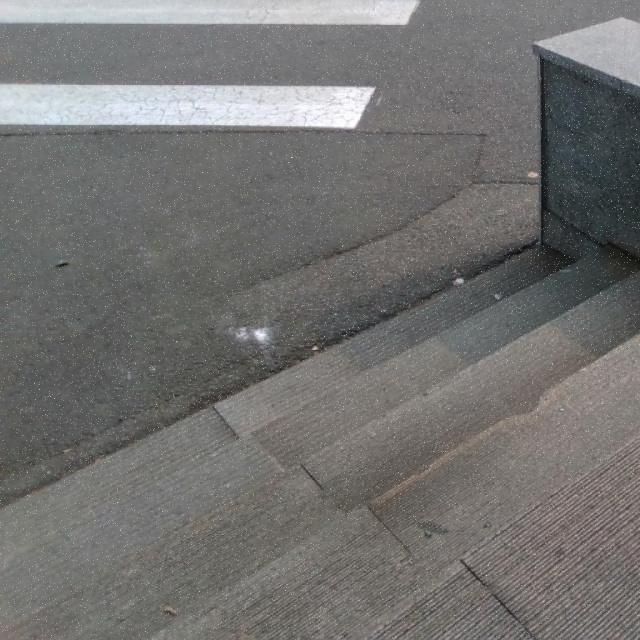stair: (31, 266, 640, 640)
